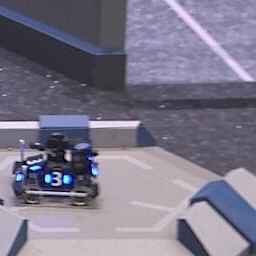Blue: (43, 171, 71, 187), (27, 155, 44, 171)
Robot: (12, 135, 103, 207)
